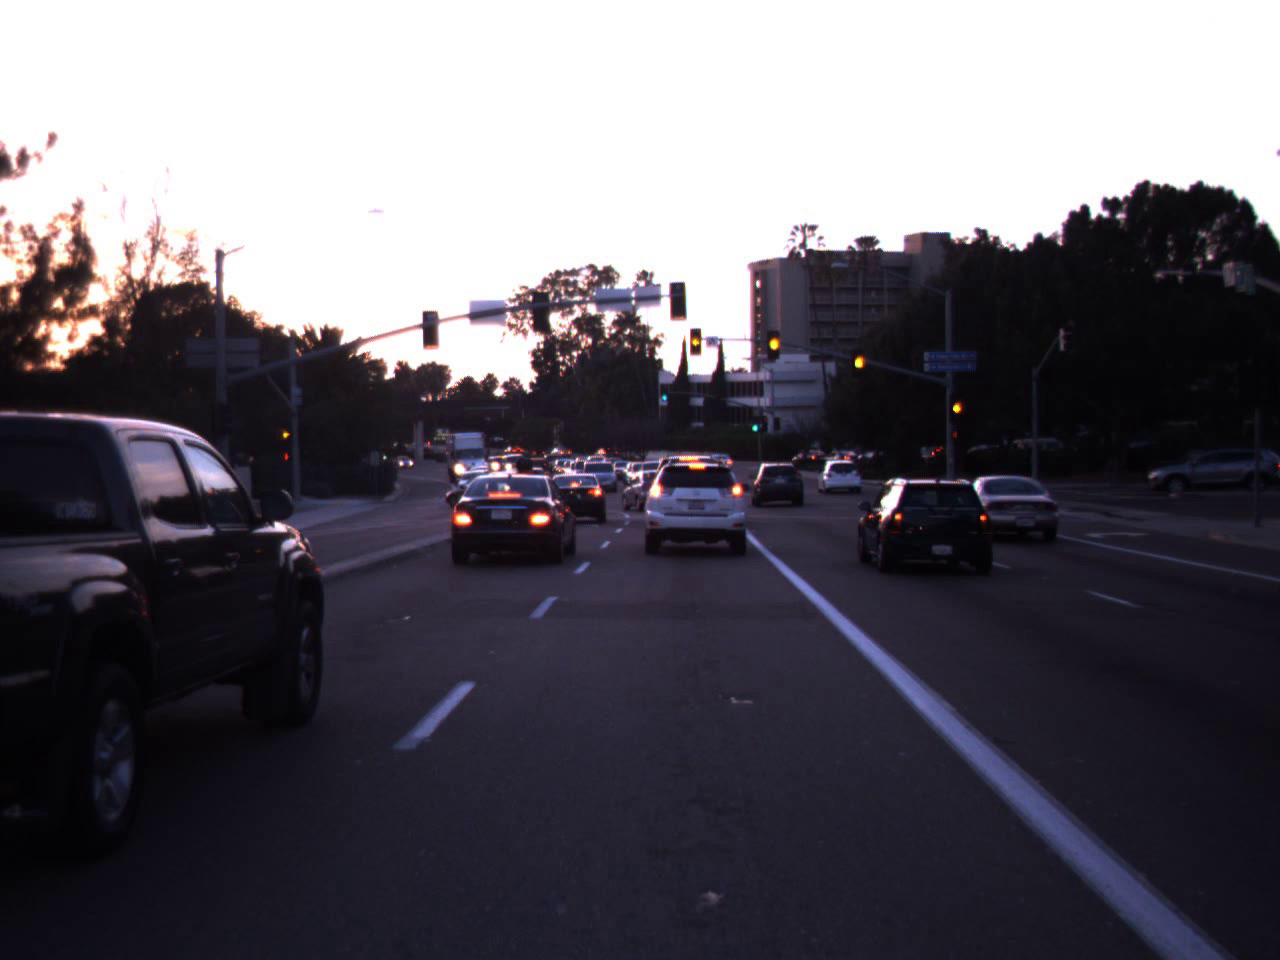go: (658, 382, 670, 402), (749, 412, 761, 432)
warning: (764, 322, 785, 362), (851, 338, 869, 383), (686, 324, 703, 355), (947, 391, 965, 422), (278, 425, 293, 443)
